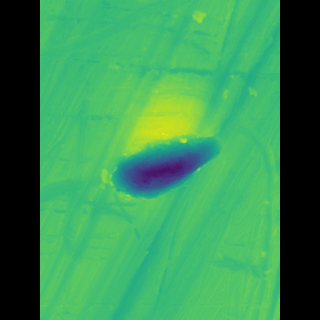Loch: (122, 0, 243, 127), (113, 130, 208, 206)
